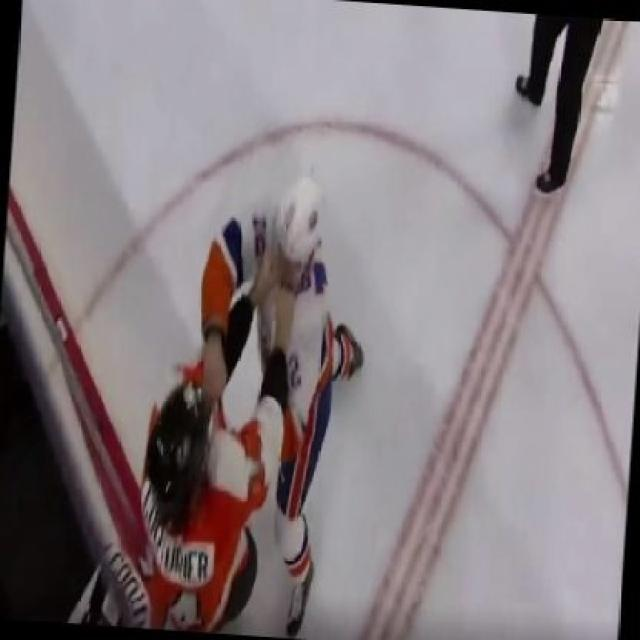fight: (129, 188, 368, 637)
